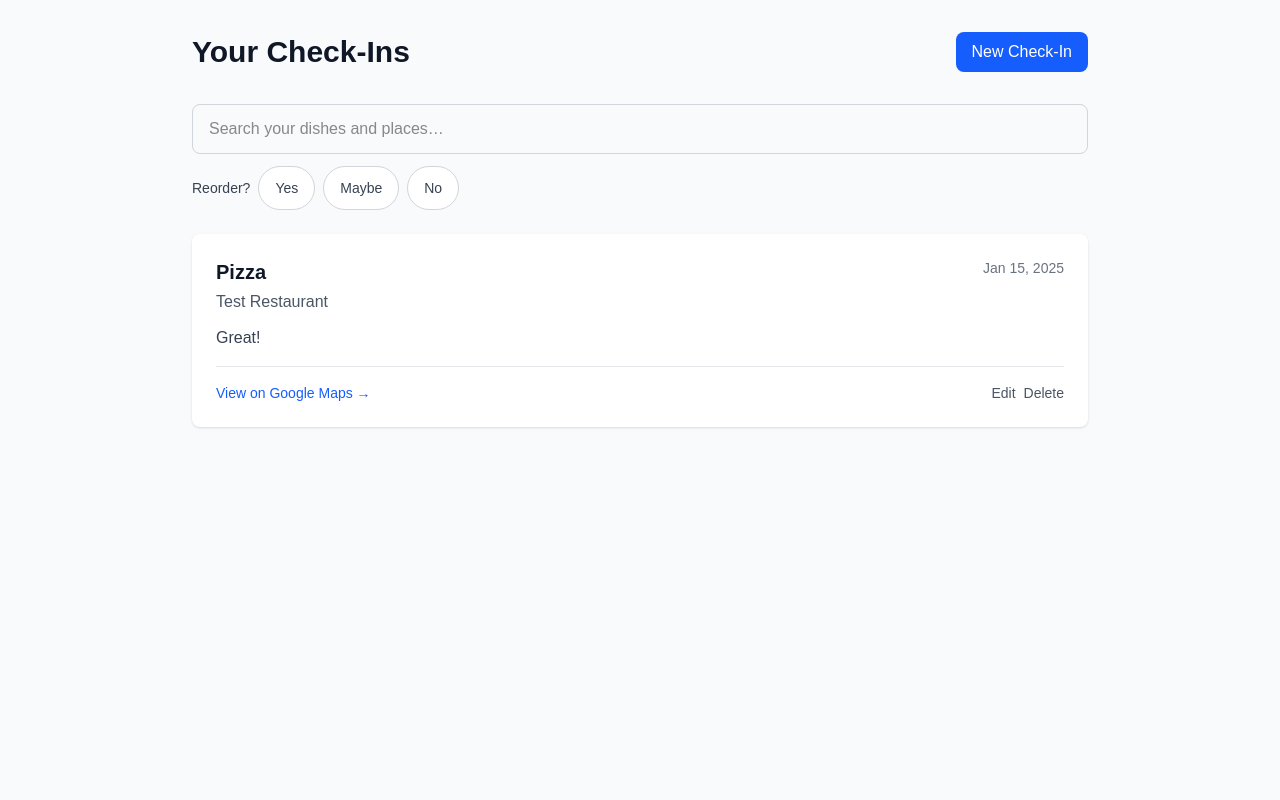
Test: HistoryPage › should save edited check-in when save is clicked
The image size is (1280, 800).
expect the heading "Pizza" is shown: met, box top-left (216, 258), bottom-right (266, 286)
Note: Open modal
Click the button "Edit": (1003, 393) top-left (991, 383), bottom-right (1016, 403)
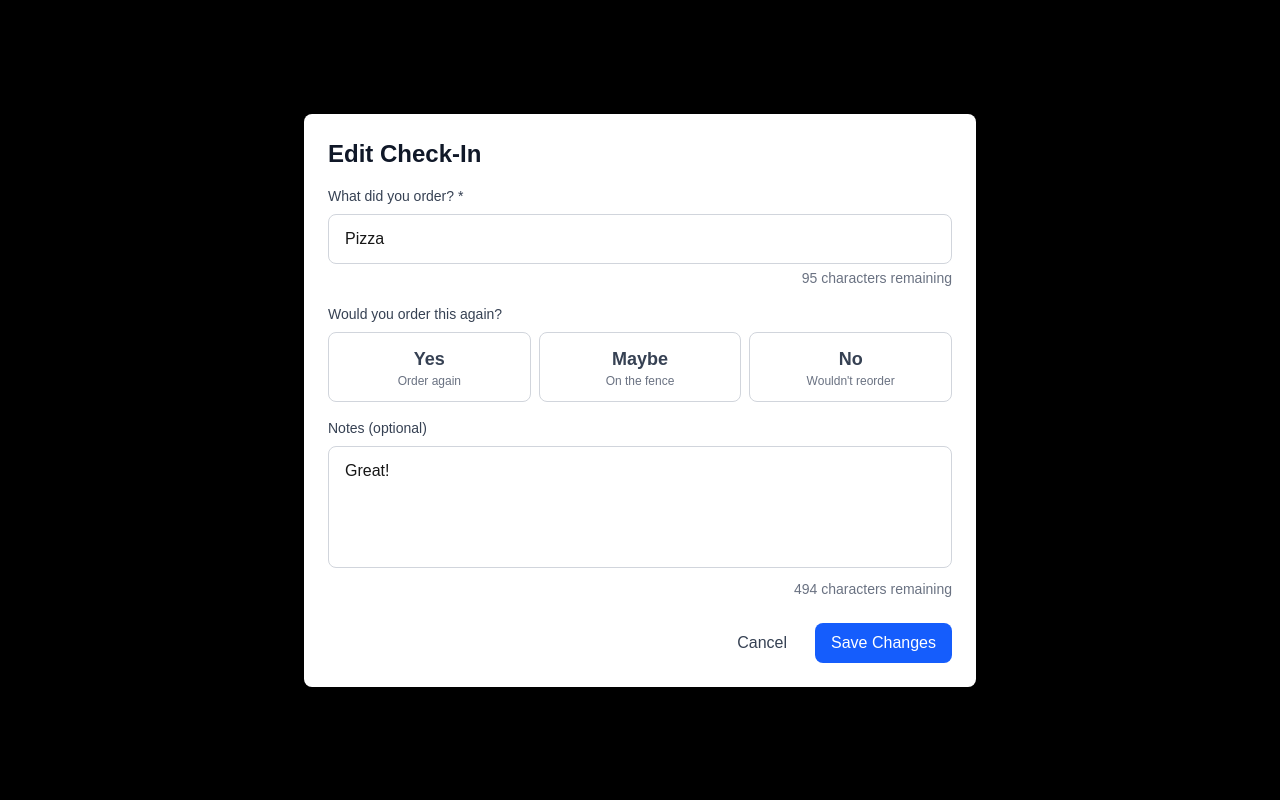
Note: Edit fields
Replace the text in the field showing "Pizza" with "Updated Pizza": (640, 238) top-left (328, 214), bottom-right (952, 264)
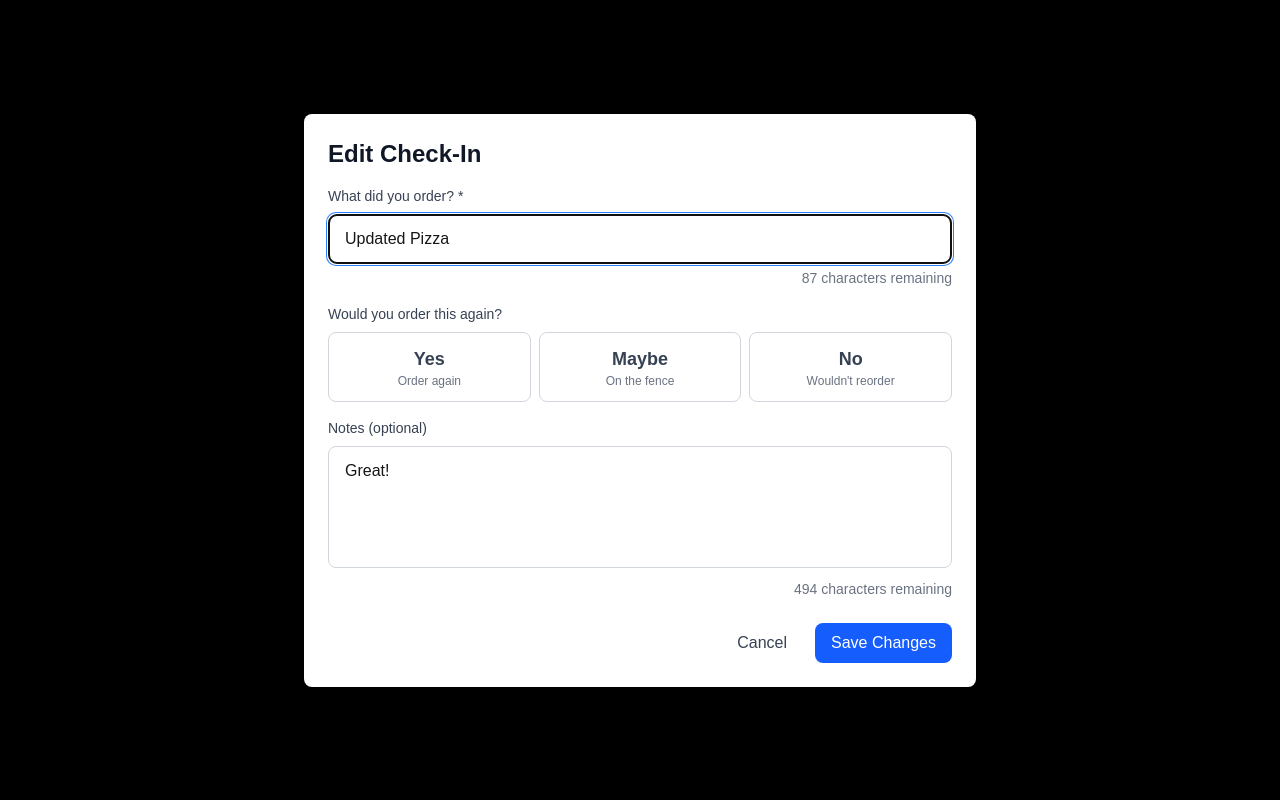
Replace the text in the text box showing "Great!" with "Even better!": (640, 506) top-left (328, 446), bottom-right (952, 568)
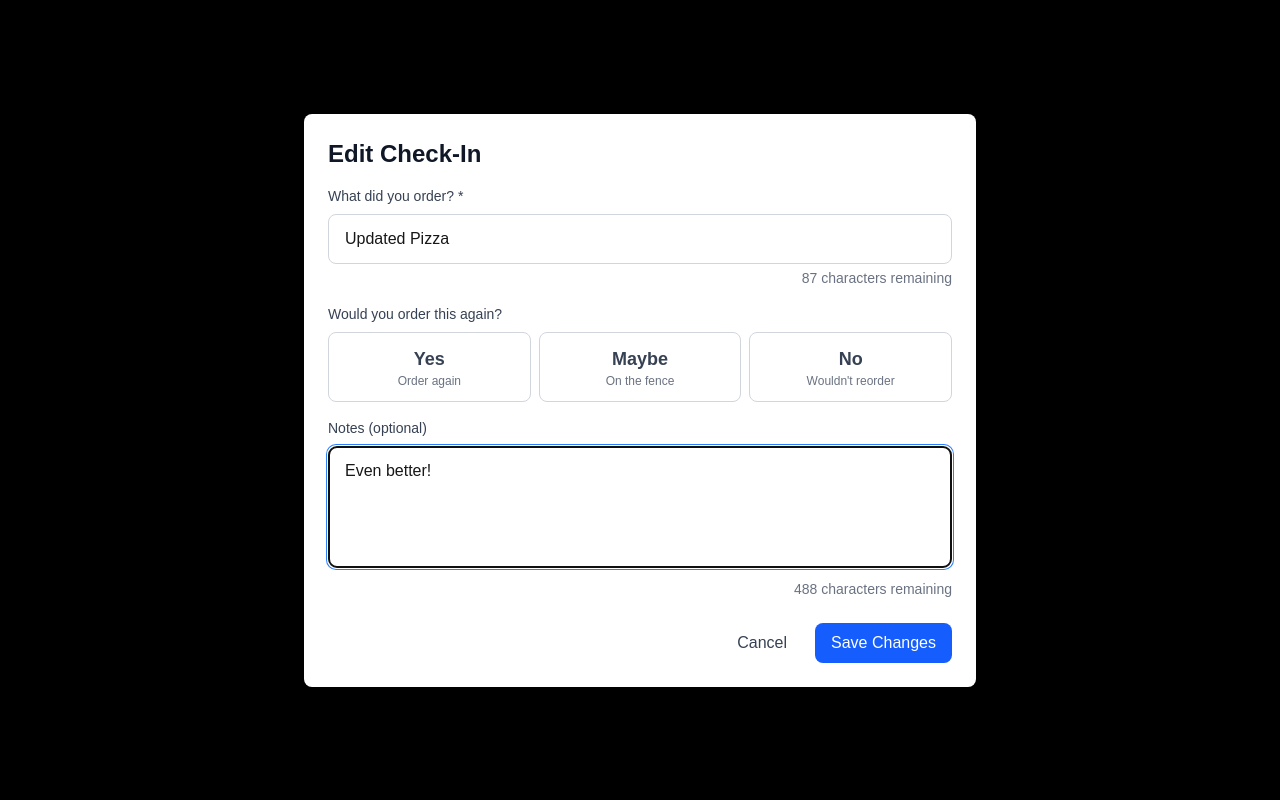
Click the button "Save Changes": (884, 642) top-left (815, 622), bottom-right (952, 662)
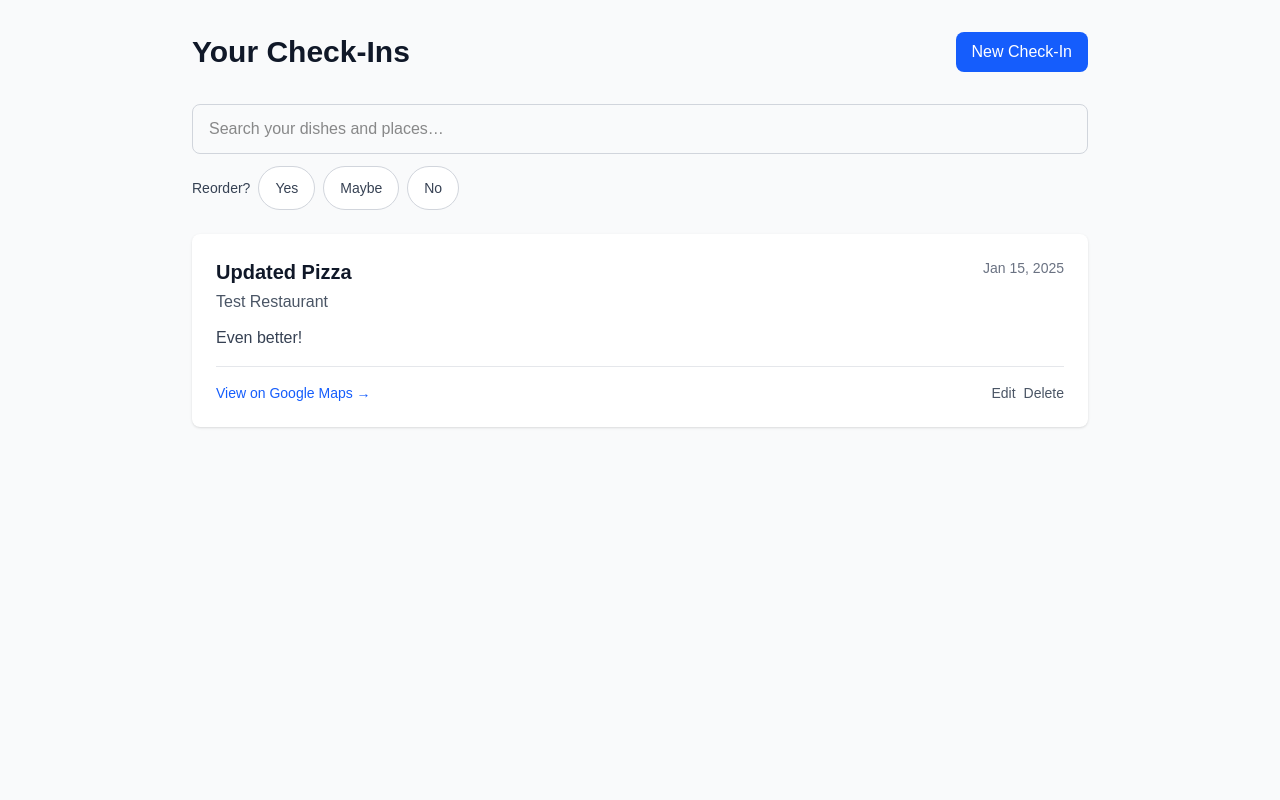
expect the heading "Updated Pizza" is shown: met, box top-left (216, 258), bottom-right (352, 286)
expect the text "Even better!" is shown: met, box top-left (216, 329), bottom-right (302, 346)
expect the heading "Edit Check-In" is gone: met
